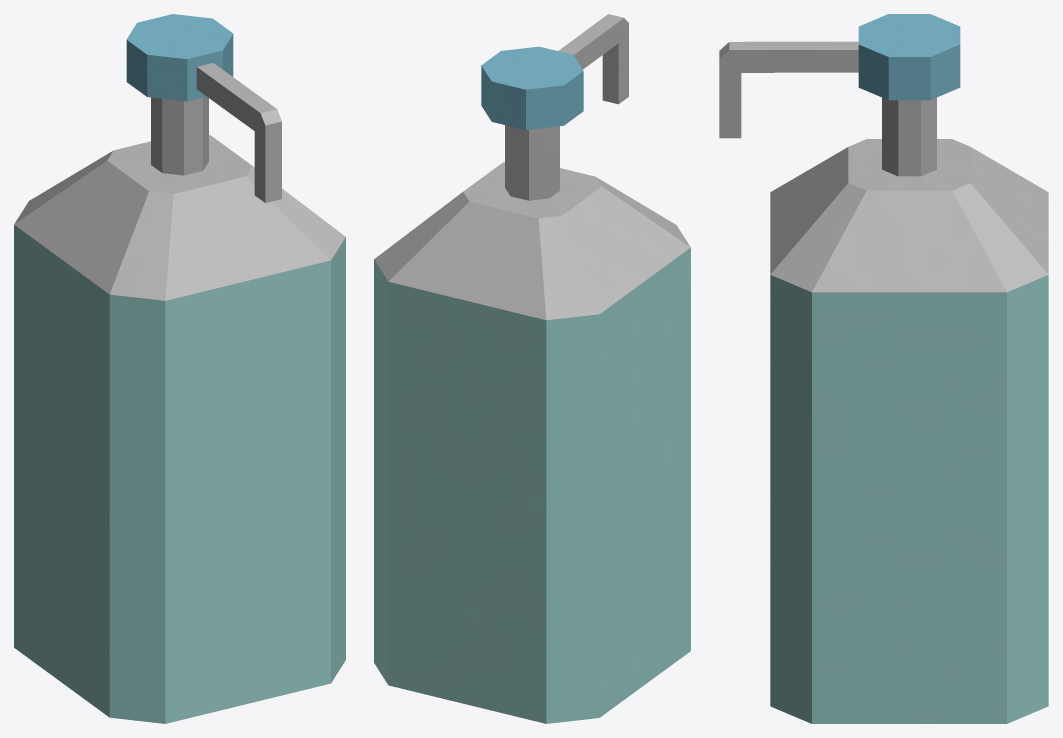
The model's file is Handwash.fbx.
3 views of the same model, side by side, from view 1: azimuth 30°, elevation 25°; view 2: azimuth 150°, elevation 25°; view 3: azimuth 270°, elevation 25° (orthographic). The views are drawn at different scales.
Parts seen in each view (by area): view 1: Handwash; view 2: Handwash; view 3: Handwash.
Boxes of the visible parts, <box> form: Handwash: <box>14,14,345,723</box>; Handwash: <box>374,14,690,723</box>; Handwash: <box>719,14,1048,723</box>.
Size of the model in its own units: 0.1585 by 0.3955 by 0.1875.
